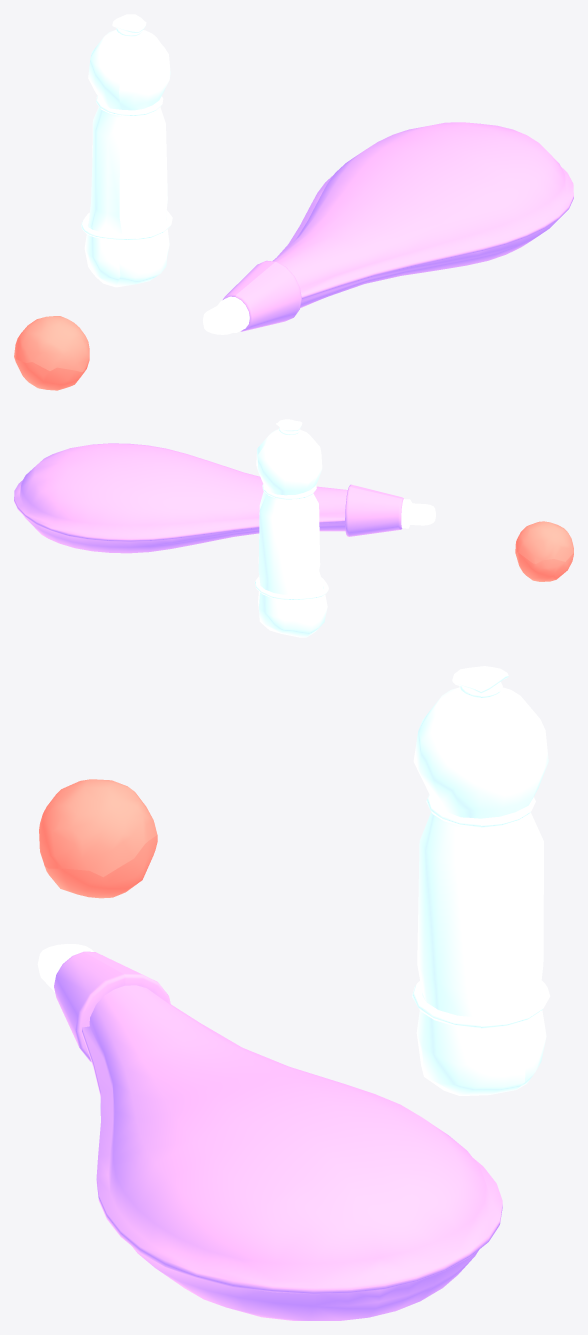
File: Pistols_misc.fbx
The picture shows the model from 3 angles, top to bottom: view 1: azimuth 30°, elevation 25°; view 2: azimuth 150°, elevation 25°; view 3: azimuth 270°, elevation 25°; orthographic projection. The views are drawn at different scales.
Visible parts, largest first — view 1: 000-0-0, 002-0-2, 003-0-3, 001-0-1; view 2: 000-0-0, 002-0-2, 003-0-3, 001-0-1; view 3: 000-0-0, 002-0-2, 003-0-3, 001-0-1.
Boxes of the visible parts, x1,y1,x2,y2 form: 000-0-0: [223, 122, 573, 331]; 002-0-2: [81, 14, 172, 287]; 003-0-3: [14, 316, 89, 390]; 001-0-1: [203, 296, 249, 334]; 000-0-0: [14, 443, 403, 553]; 002-0-2: [254, 419, 328, 637]; 003-0-3: [515, 521, 573, 581]; 001-0-1: [401, 499, 435, 528]; 000-0-0: [54, 951, 502, 1320]; 002-0-2: [412, 666, 550, 1095]; 003-0-3: [39, 779, 157, 898]; 001-0-1: [37, 944, 93, 992].
Bounding box in the file's own units: 426 × 937 × 384.
